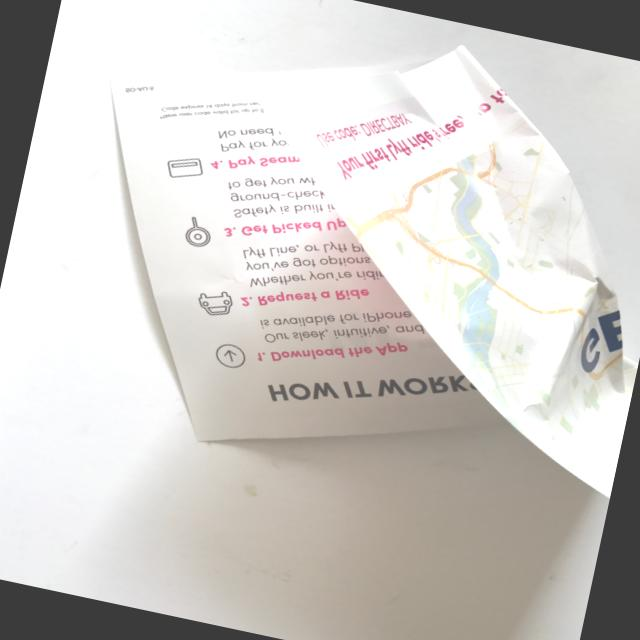Paper: (15, 0, 640, 541)
